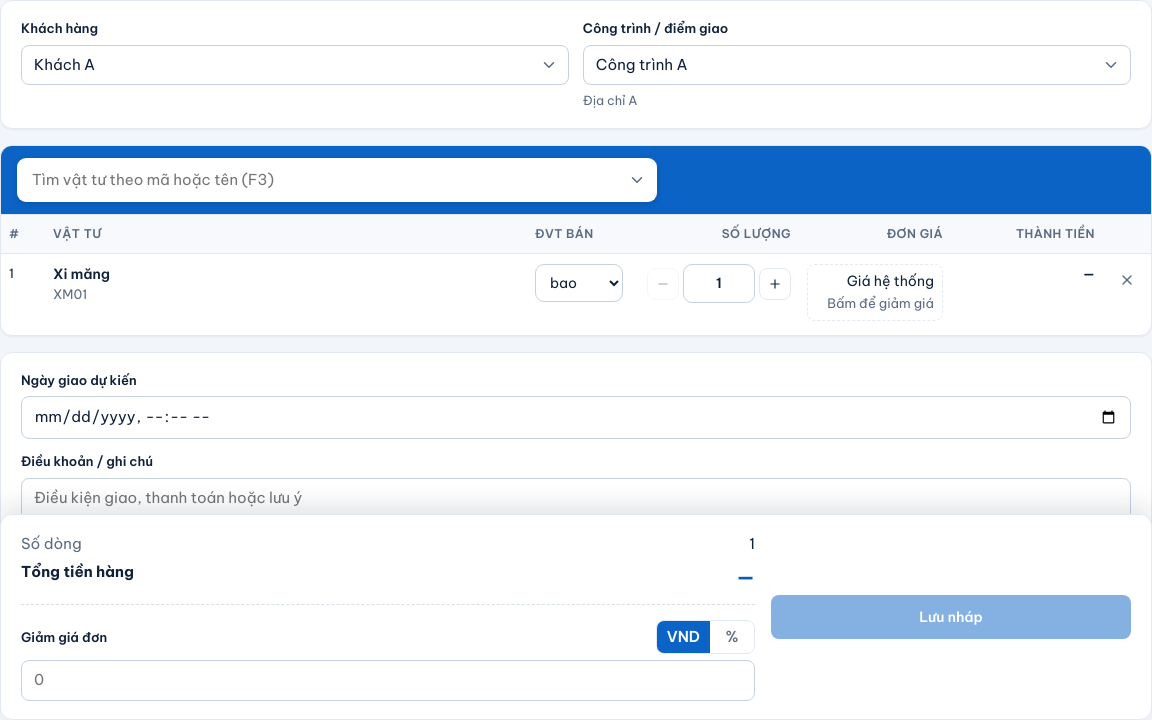
Test case: blocks invalid quantity  with a line error
Clear the field named "Số lượng dòng 1" at (719,284), box [683, 264, 755, 303]
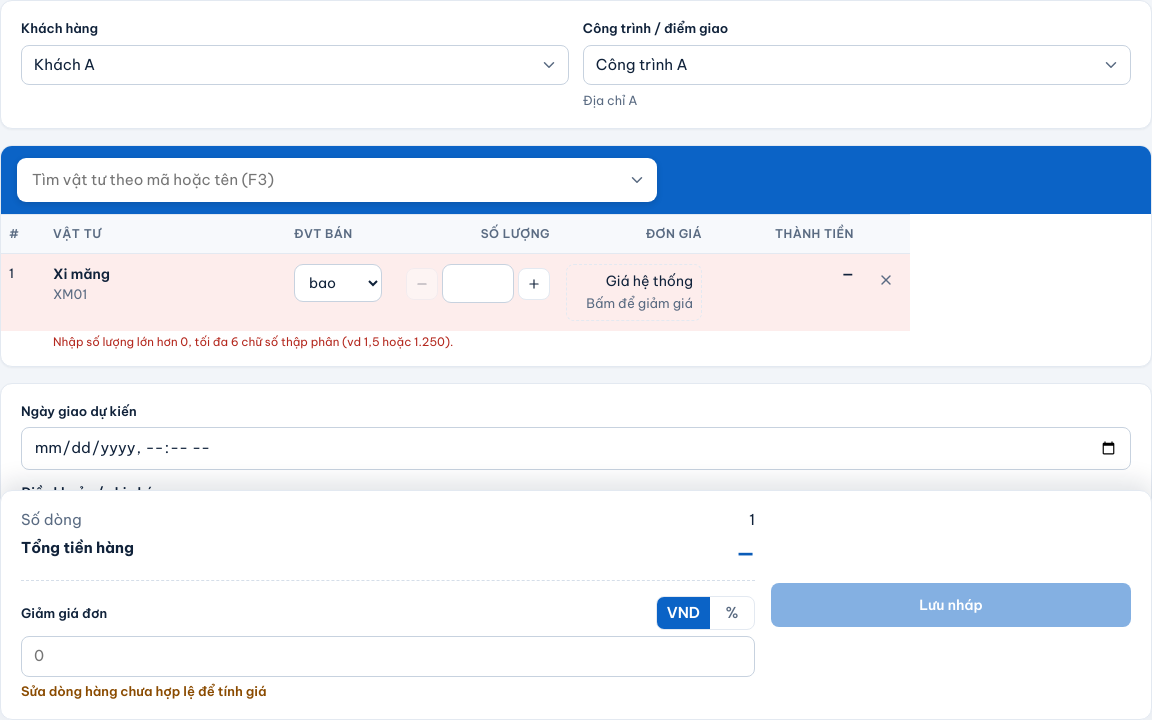
expect the button "Lưu nháp" is disabled: met, box [771, 583, 1131, 627]
expect the message shows "Nhập số lượng lớn hơn 0": met, box [53, 334, 453, 349]
